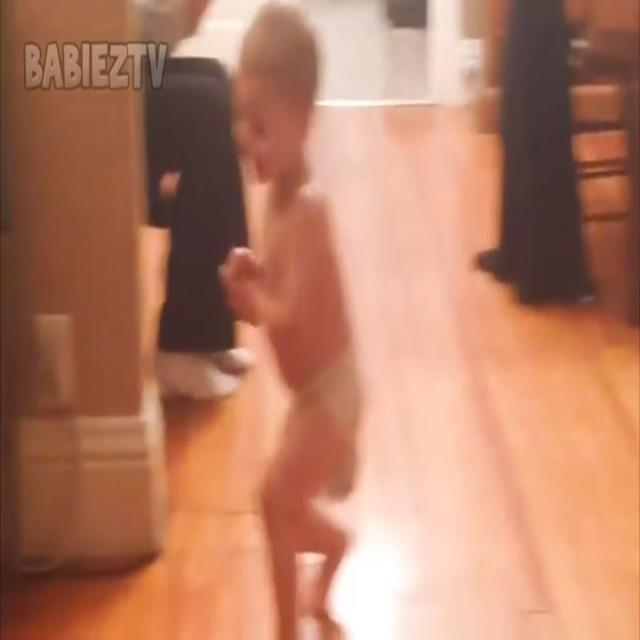child: (219, 6, 360, 640)
